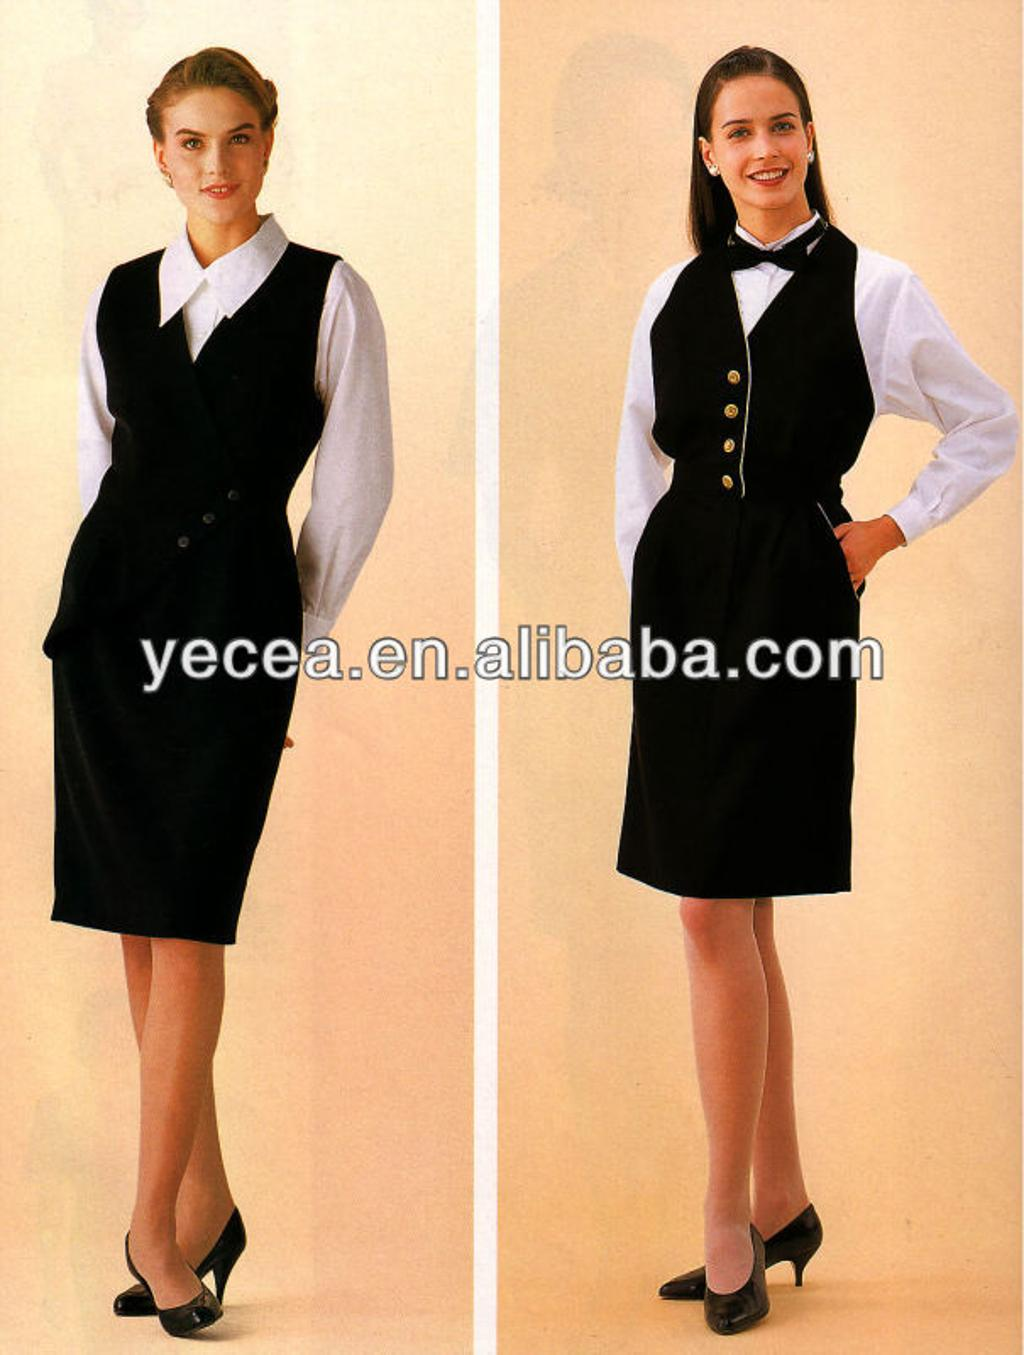face: (709, 69, 807, 209), (161, 87, 264, 219)
